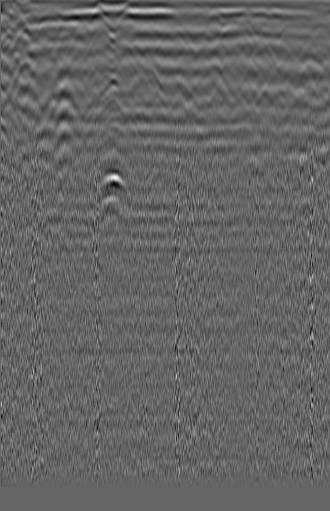가스: (95, 166, 127, 195)
상수: (6, 16, 34, 50)
오수: (290, 48, 323, 73)
우수: (154, 16, 194, 48)
